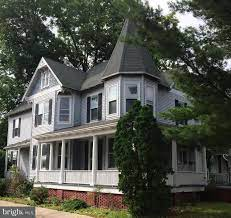Building House: (6, 34, 215, 190)
